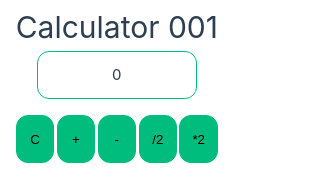
Calculator Module › - operator
The image size is (320, 180).
Check: the text with id "result" reads "0", box x1=112 y1=65 x2=122 y2=84
Click the button with id "subtract". click: (117, 139)
box: x1=98 y1=115 x2=136 y2=163
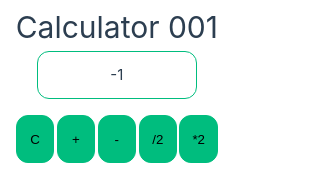
Check: the text with id "result" reads "-1", box x1=110 y1=65 x2=123 y2=84
